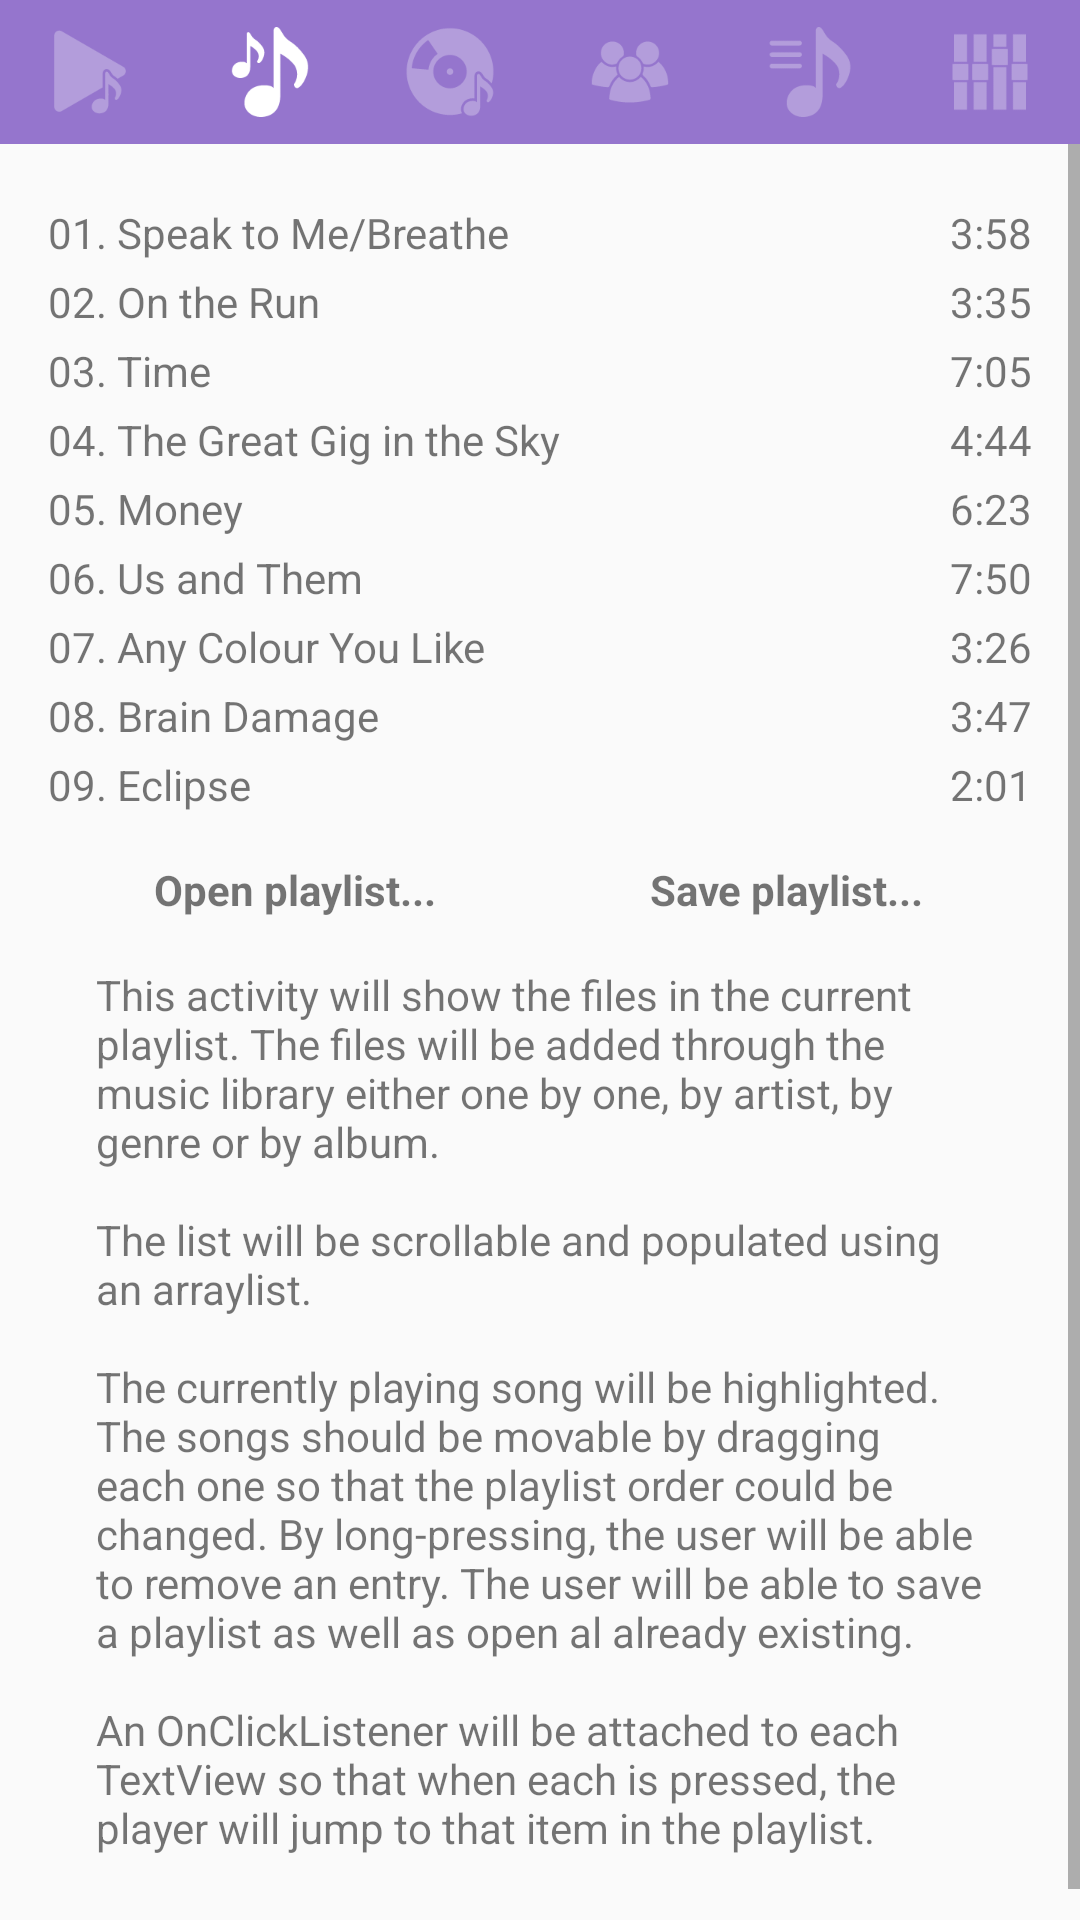

Where icons sit on this 1080 x 1920 app screen, as [x1=x1, y1=y1, x2=x2, y2=y2]:
artist: [x1=592, y1=42, x2=668, y2=102]
music library: [x1=407, y1=28, x2=493, y2=116]
nowplaying: [x1=54, y1=31, x2=126, y2=113]
playlist: [x1=232, y1=27, x2=308, y2=117]
